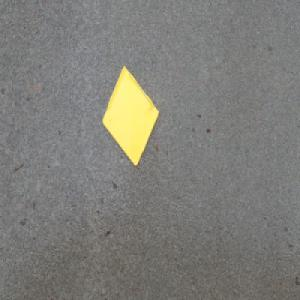PlasticPart: (101, 63, 160, 168)
